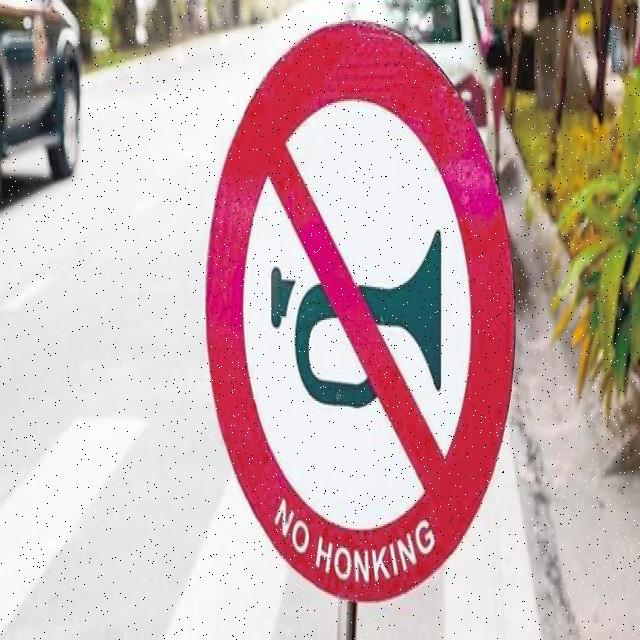No_Horn: (209, 18, 517, 604)
